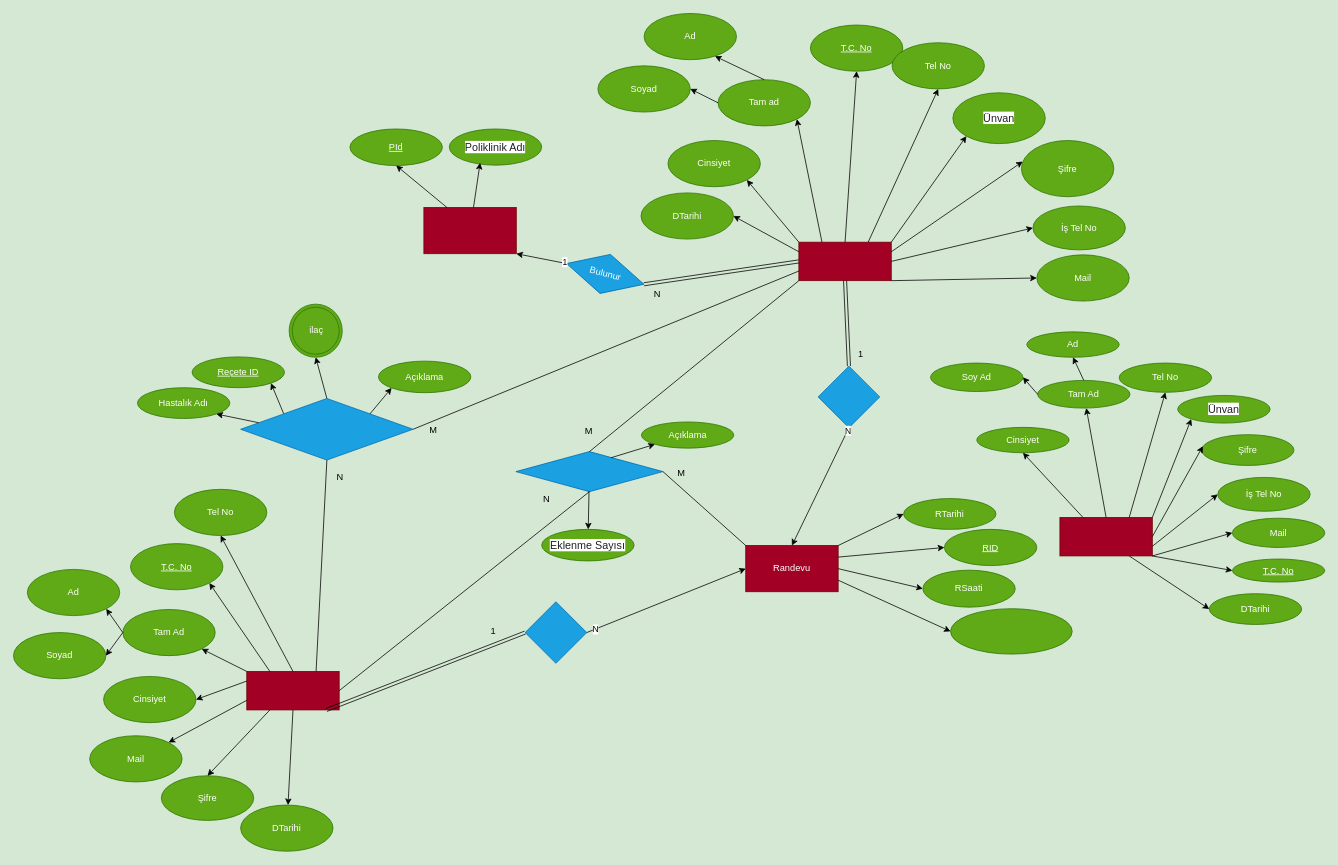
Some shapes in this 1338 by 865 pixel diagram are drawn without their labels. Each missing label, with the centre of its shape:
Alır: the point at 555,632
Doktor: the point at 844,261
Hasta: the point at 292,690
Kara Liste olur: the point at 589,471
Poliklinik: the point at 469,230
Reçete: the point at 326,429
ROlusturma Tarihi: the point at 1011,631
Yönetici: the point at 1105,536
Yönetir: the point at 848,396
